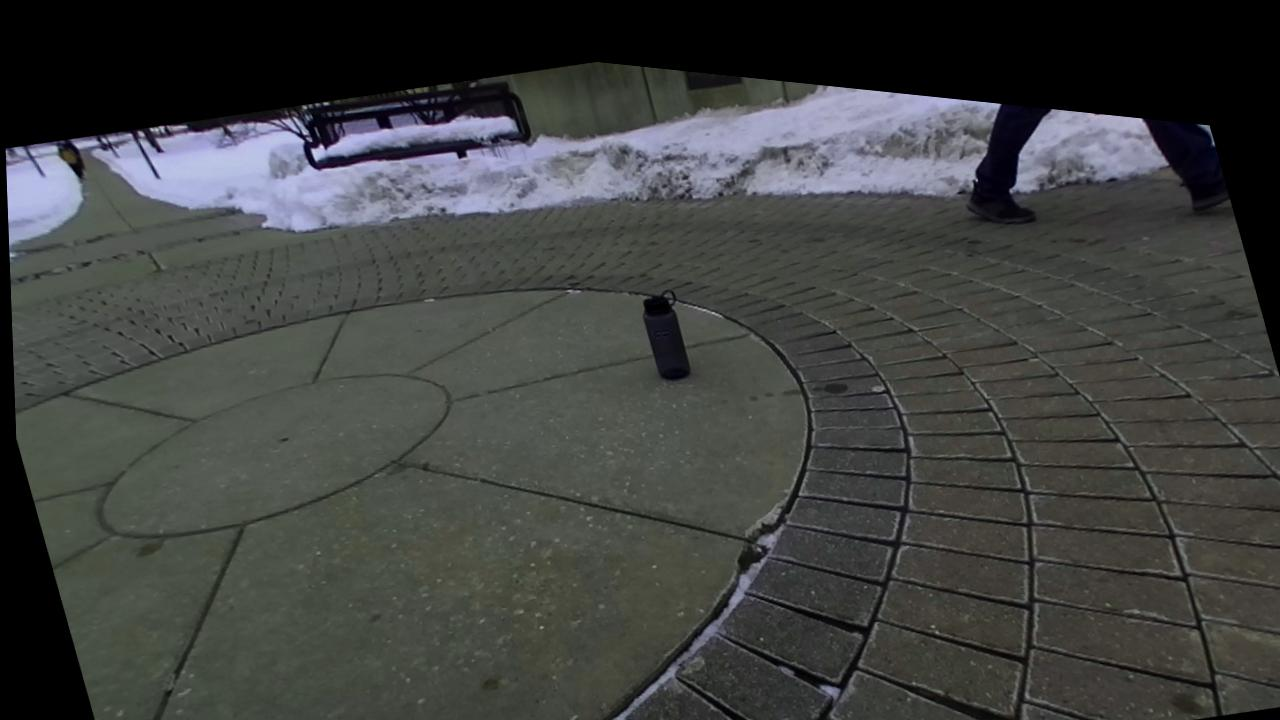bottle: (643, 292, 689, 379)
